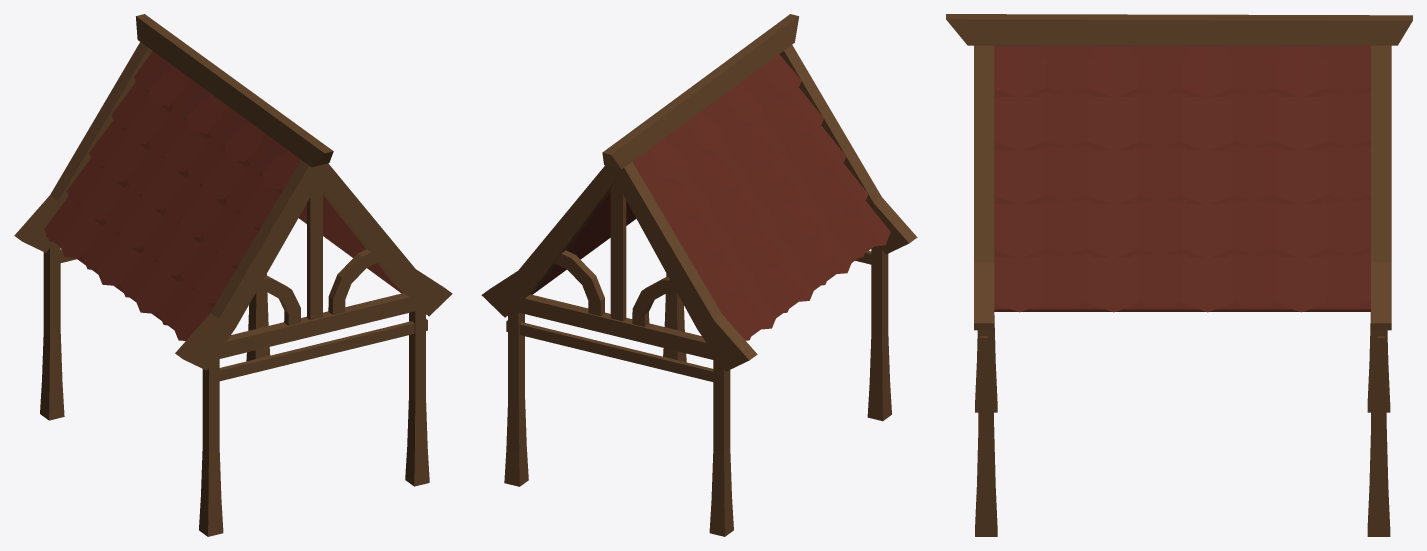
Rendered from Gazebo.glb.
3 views of the same model, side by side, from view 1: azimuth 30°, elevation 25°; view 2: azimuth 150°, elevation 25°; view 3: azimuth 270°, elevation 25° (orthographic). The views are drawn at different scales.
Parts seen in each view (by area): view 1: Gazebo_Cube.267; view 2: Gazebo_Cube.267; view 3: Gazebo_Cube.267.
Part boxes in pixels (<box>): Gazebo_Cube.267: <box>14,14,452,536</box>; Gazebo_Cube.267: <box>481,14,917,536</box>; Gazebo_Cube.267: <box>946,14,1412,536</box>.
Size of the model in its own units: 1.04 by 1.35 by 1.26.
